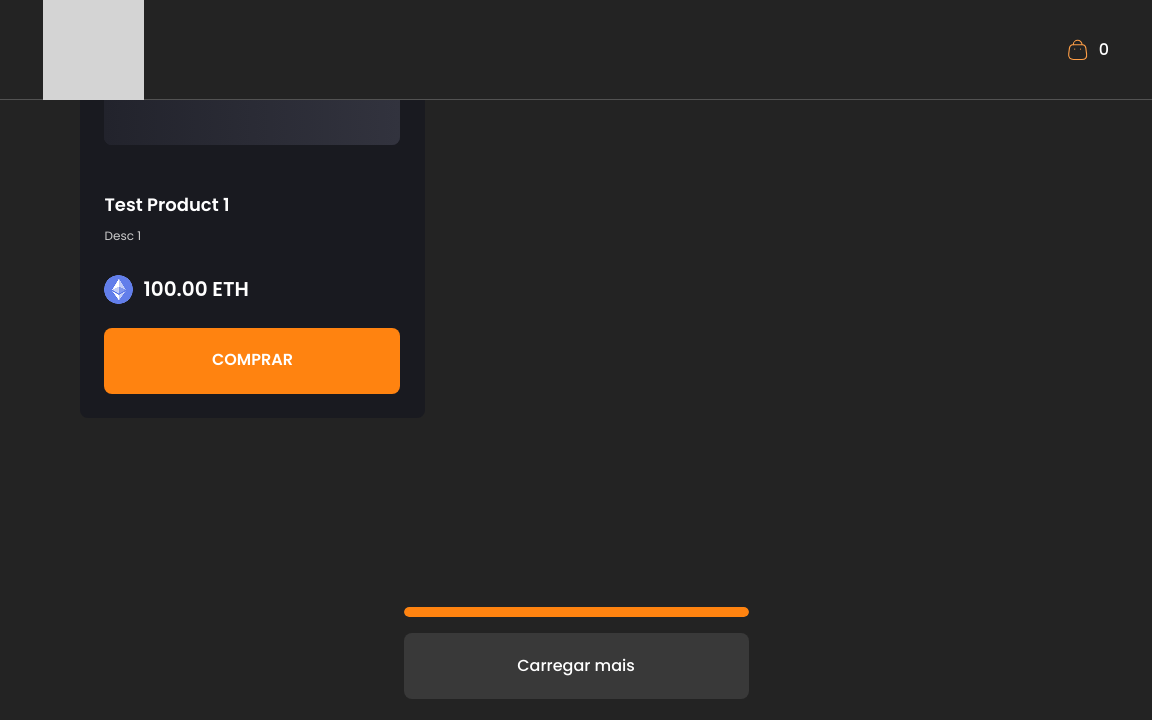
Scenario: HomeContent Integration › should handle 'Add to Cart' interaction
(page scrolled)
# Find and Click Buy Button
Step 1. Click the button "Comprar" → (252, 361), box top-left (104, 328), bottom-right (400, 394)
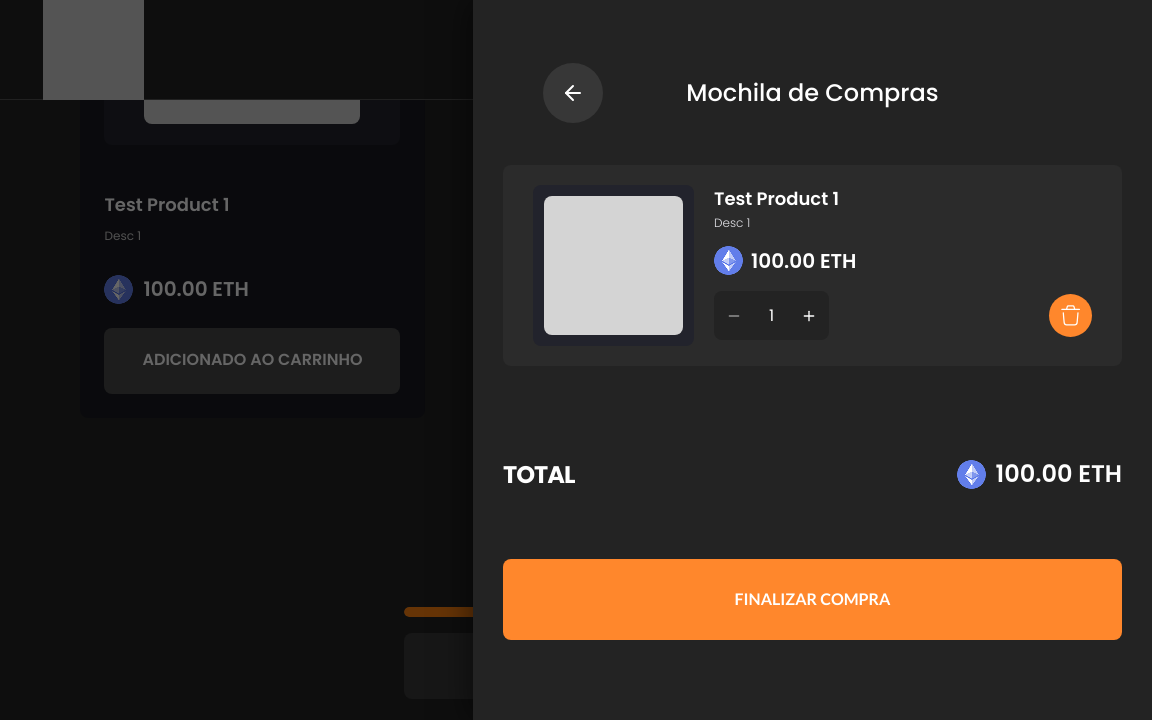
Expected: the button "ADICIONADO AO CARRINHO" is disabled, top-left (104, 328), bottom-right (400, 394)
